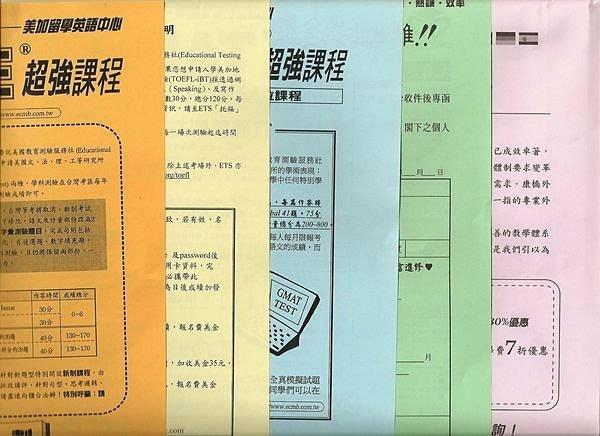paper: (164, 0, 599, 435), (395, 0, 599, 435), (0, 0, 164, 433)
